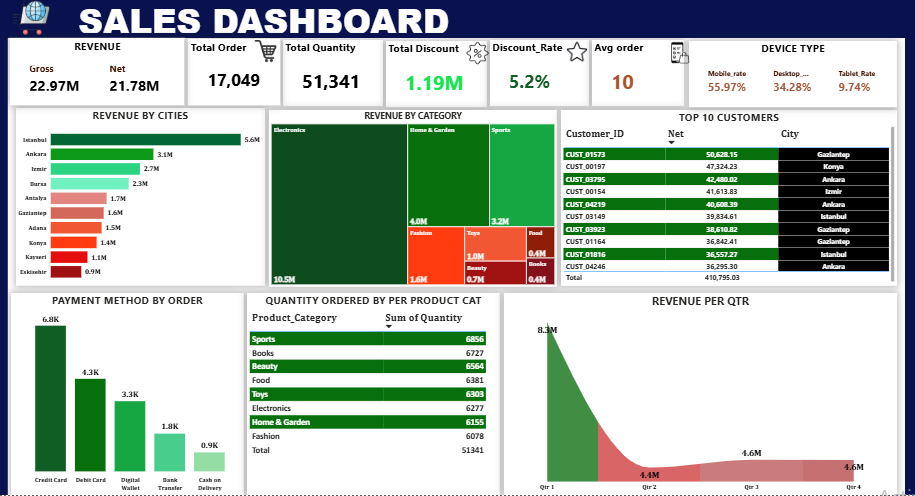

The dashboard page shown, as its layout file describes it:
{"tool":"powerbi","page":{"name":"Sales Dashboard","canvas":[1980,1080],"ordinal":1},"visuals":[{"type":"cardVisual","title":"Total Quantity","fields":{"Data":["Orders.Total_Quantity_Ordered"]},"box":[613.4,97.2,216,142.6],"z":0},{"type":"cardVisual","title":"Total  Discount","fields":{"Data":["Orders.Total_discount"]},"box":[835.9,99.4,218.2,142.6],"z":1000},{"type":"cardVisual","title":"Discount_Rate","fields":{"Data":["Orders.Discount_rate"]},"box":[1060.6,97.2,213.8,142.6],"z":2000},{"type":"cardVisual","title":"Avg order ","fields":{"Data":["Orders.Avg_Quantity_Per_Customer"]},"box":[1280.9,97.2,198.7,142.6],"z":3000},{"type":"shape","box":[0,0,19.4,1080],"z":4000},{"type":"shape","box":[0,0,1980.7,92.9],"z":5000},{"type":"textbox","title":"SALES DASHBOARD","box":[166.3,0,1144.8,82.1],"z":6000},{"type":"barChart","title":"REVENUE BY CITIES","fields":{"Category":["Orders.City"],"Y":["Orders.Net_Revenue"]},"box":[36.7,244.1,537.8,384.5],"z":7000},{"type":"treemap","title":"REVENUE BY CATEGORY","fields":{"Group":["Orders.Product_Category"],"Values":["Orders.Net_Revenue"]},"box":[583.2,248.4,622.1,382.3],"z":8000},{"type":"tableEx","title":"TOP 10 CUSTOMERS","fields":{"Values":["Orders.Customer_ID","Orders.Net_Revenue","Orders.City"]},"box":[1213.9,248.4,725.8,380.2],"z":9000},{"type":"columnChart","title":"PAYMENT METHOD BY ORDER","fields":{"Category":["Orders.Payment_Method"],"Y":["CountNonNull(Orders.Order_ID)"]},"box":[25.9,643.7,503.3,436.3],"z":10000},{"type":"cardVisual","title":"Total Order","fields":{"Data":["Orders.Total_order"]},"box":[408.2,95,198.7,142.6],"z":12000},{"type":"cardVisual","title":"REVENUE","fields":{"Data":["Orders.Gross_Revenue","Orders.Net_Revenue"]},"box":[23.8,92.9,375.8,144.7],"z":13000},{"type":"cardVisual","title":"DEVICE TYPE","fields":{"Data":["Orders.Mobile_rate","Orders.Desktop_Rate","Orders.Tablet_Rate"]},"box":[1490.4,99.4,449.3,142.6],"z":14000},{"type":"image","box":[544.3,97.2,62.6,47.5],"z":15000},{"type":"image","box":[997.9,99.4,71.3,51.8],"z":16000},{"type":"image","box":[1213.9,90.7,69.1,62.6],"z":17000},{"type":"image","box":[1432.1,99.4,77.8,49.7],"z":18000},{"type":"tableEx","title":"QUANTITY ORDERED BY PER PRODUCT CAT","fields":{"Values":["Orders.Product_Category","Sum(Orders.Quantity)"]},"box":[535.7,643.7,546.5,436.3],"z":19000},{"type":"lineChart","title":"REVENUE PER QTR","fields":{"Y":["Orders.Net_Revenue"],"Category":["Date_Table.Date.Variation.Date Hierarchy.Quarter"]},"box":[1090.8,643.7,848.9,436.3],"z":20000},{"type":"image","box":[10.8,6.5,118.8,79.9],"z":21000},{"type":"shape","box":[1957,17.3,23.8,1062.7],"z":22000}]}

Visuals, with their boxes in screenshot pixels (x1, y1, x2, y2), scaled from the page's 1980x1080 canvas onto the 915x496 screenshot:
"Total Quantity" cardVisual: rect(283, 45, 383, 110)
"Total  Discount" cardVisual: rect(386, 46, 487, 111)
"Discount_Rate" cardVisual: rect(490, 45, 589, 110)
"Avg order " cardVisual: rect(592, 45, 684, 110)
shape: rect(0, 0, 9, 495)
shape: rect(0, 0, 914, 43)
"SALES DASHBOARD" textbox: rect(77, 0, 606, 38)
"REVENUE BY CITIES" barChart: rect(17, 112, 265, 289)
"REVENUE BY CATEGORY" treemap: rect(270, 114, 557, 290)
"TOP 10 CUSTOMERS" tableEx: rect(561, 114, 896, 289)
"PAYMENT METHOD BY ORDER" columnChart: rect(12, 296, 245, 495)
"Total Order" cardVisual: rect(189, 44, 280, 109)
"REVENUE" cardVisual: rect(11, 43, 185, 109)
"DEVICE TYPE" cardVisual: rect(689, 46, 896, 111)
image: rect(252, 45, 280, 66)
image: rect(461, 46, 494, 69)
image: rect(561, 42, 593, 70)
image: rect(662, 46, 698, 68)
"QUANTITY ORDERED BY PER PRODUCT CAT" tableEx: rect(248, 296, 500, 495)
"REVENUE PER QTR" lineChart: rect(504, 296, 896, 495)
image: rect(5, 3, 60, 40)
shape: rect(904, 8, 914, 495)
